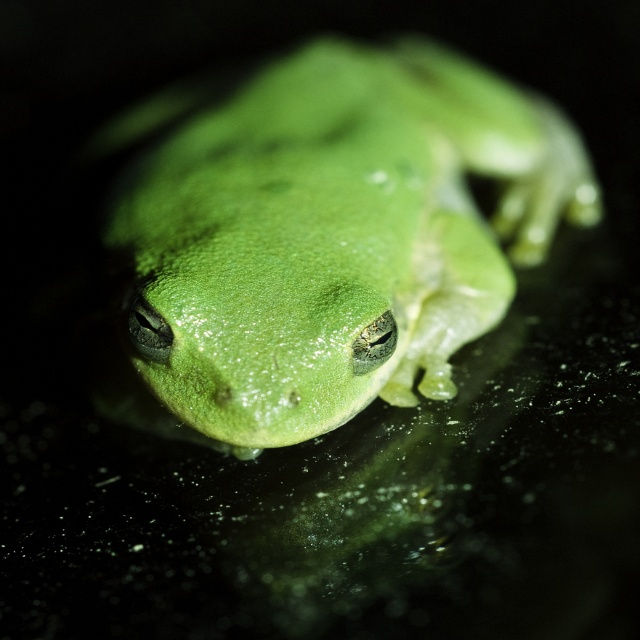Frog: (85, 34, 604, 454)
